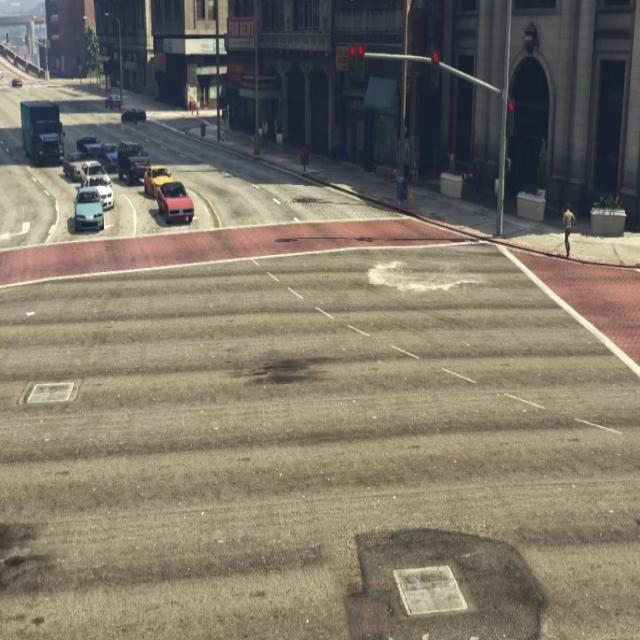Red-Signal: (346, 36, 368, 93), (428, 45, 444, 91), (503, 93, 520, 136)
